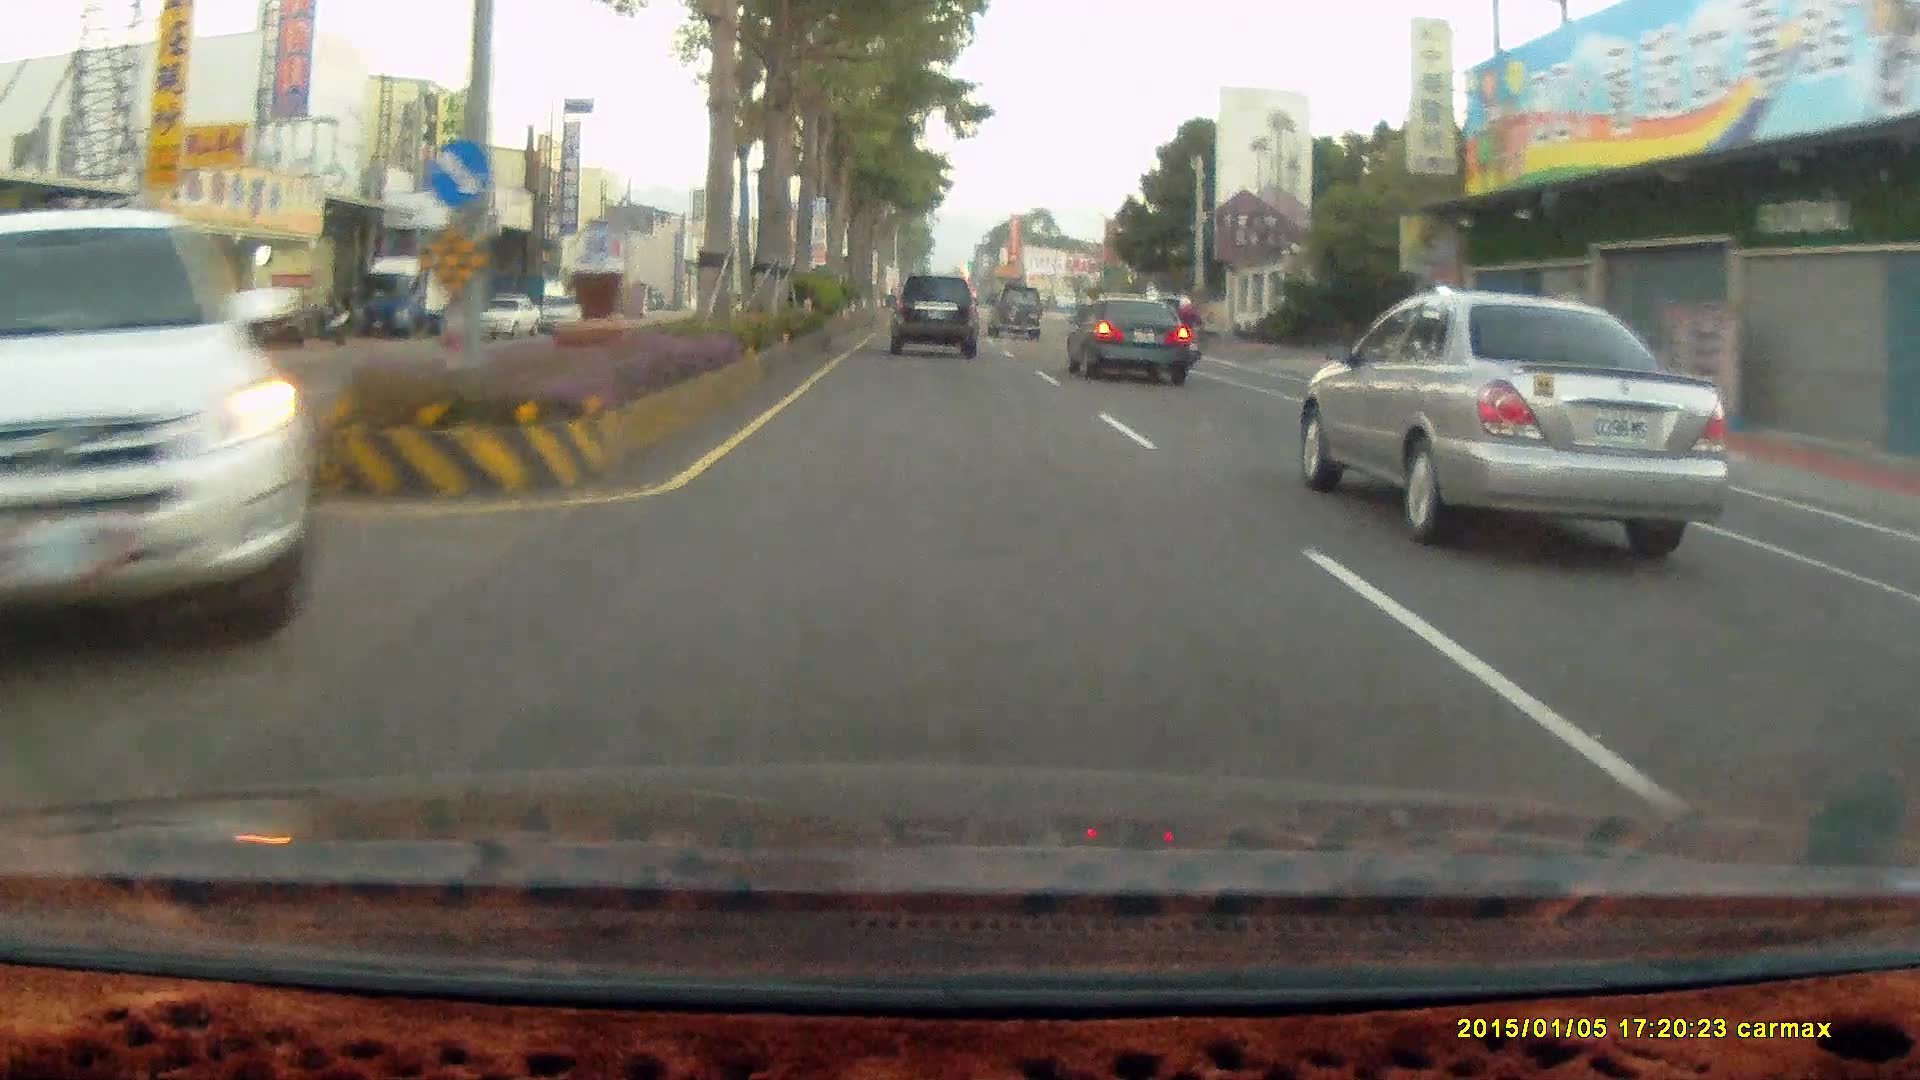rider: (1161, 293, 1206, 369)
vehicle: (0, 205, 321, 653), (1, 207, 322, 655), (1297, 293, 1725, 554), (1063, 295, 1191, 387), (29, 295, 154, 385), (1070, 303, 1199, 389), (359, 253, 462, 337), (363, 258, 465, 342), (888, 270, 984, 357), (890, 273, 977, 357), (470, 302, 545, 347), (986, 288, 1044, 346), (469, 294, 543, 339), (986, 281, 1043, 339)
